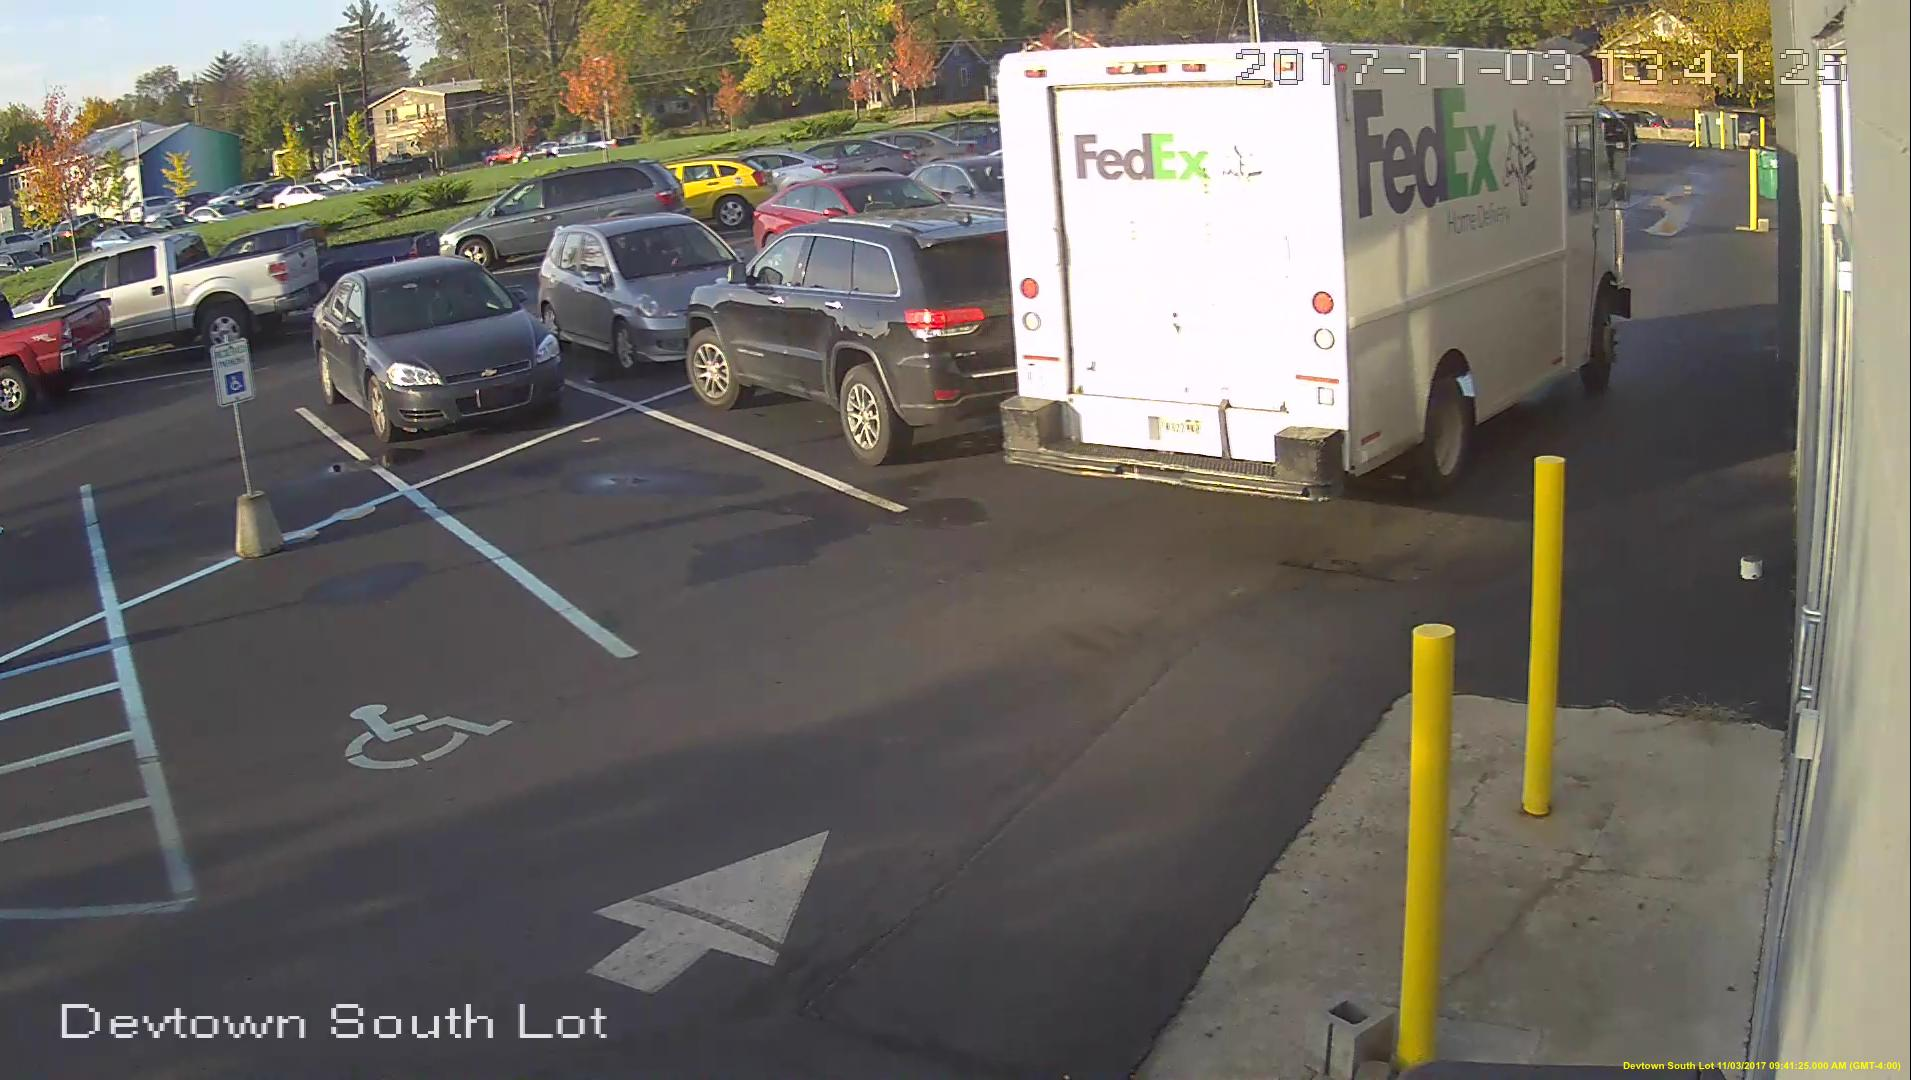fedex_truck: (991, 51, 1639, 510)
